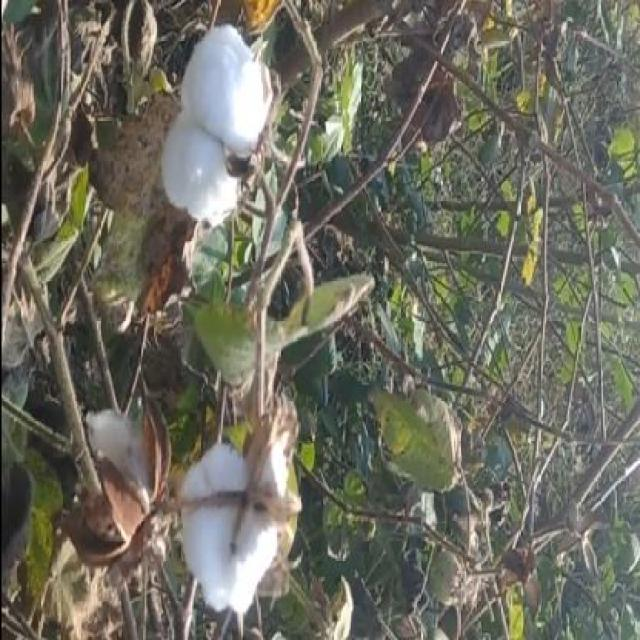cotton_ready: (153, 35, 285, 242), (164, 434, 305, 598)
